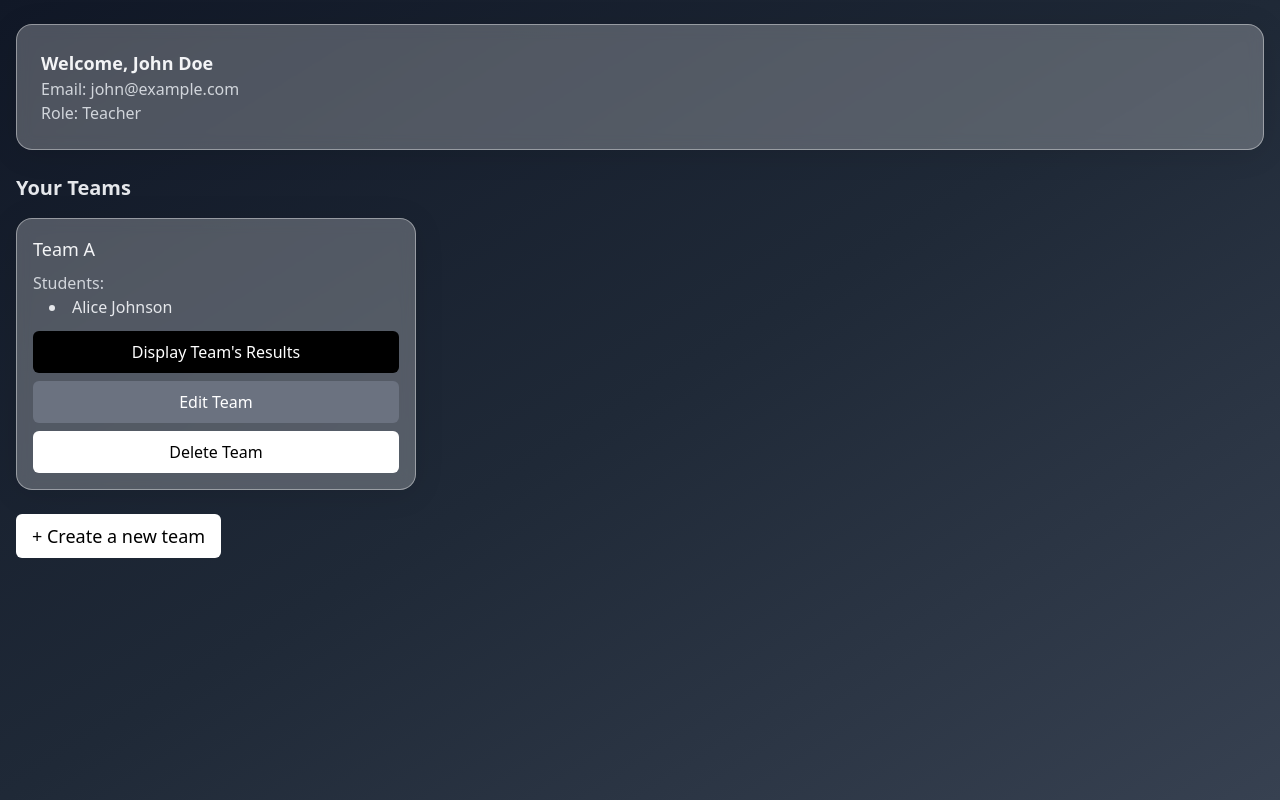
Scenario: TeacherDashboard Component › handles delete team functionality
The image size is (1280, 800).
Expected: the heading "Team A" is shown, [33,237,95,261]
Click the button with test id "suppr".
click(216, 452)  # box [33,431,399,473]
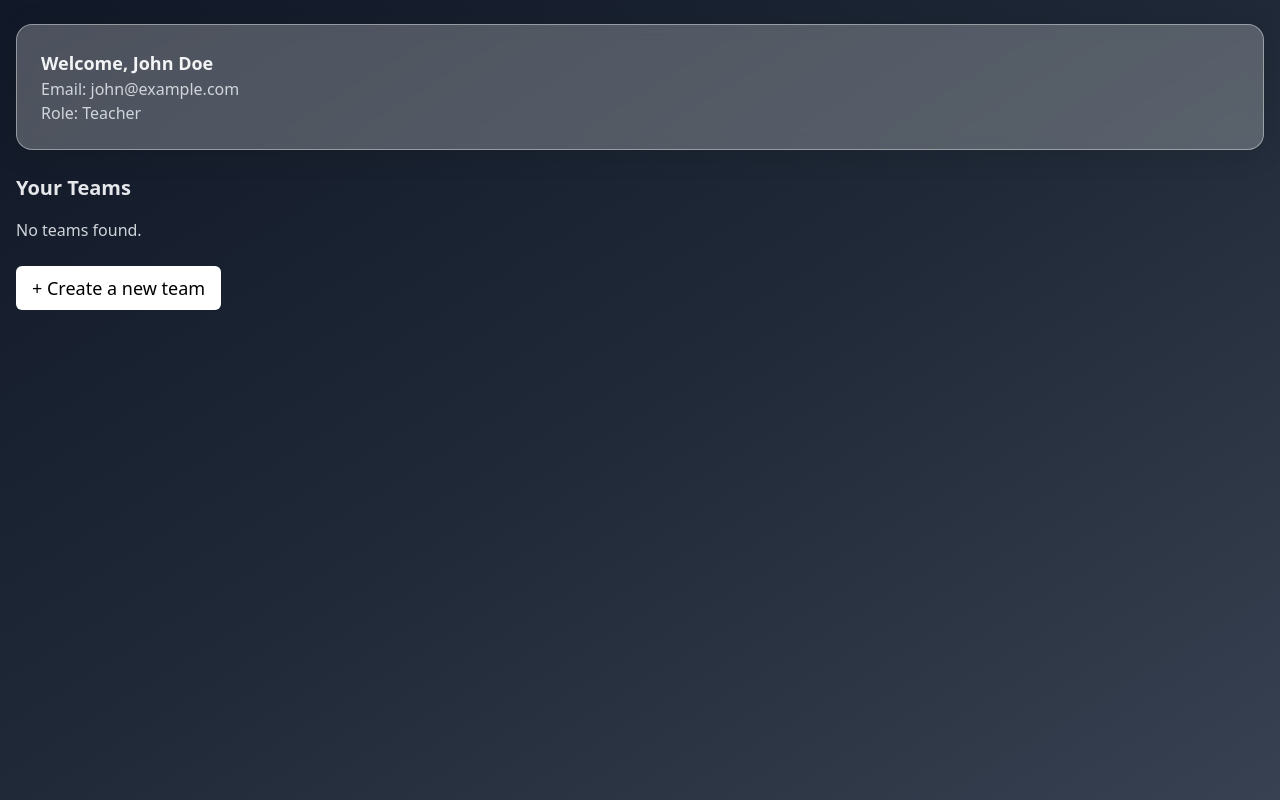
Now the heading "Team A" is gone
